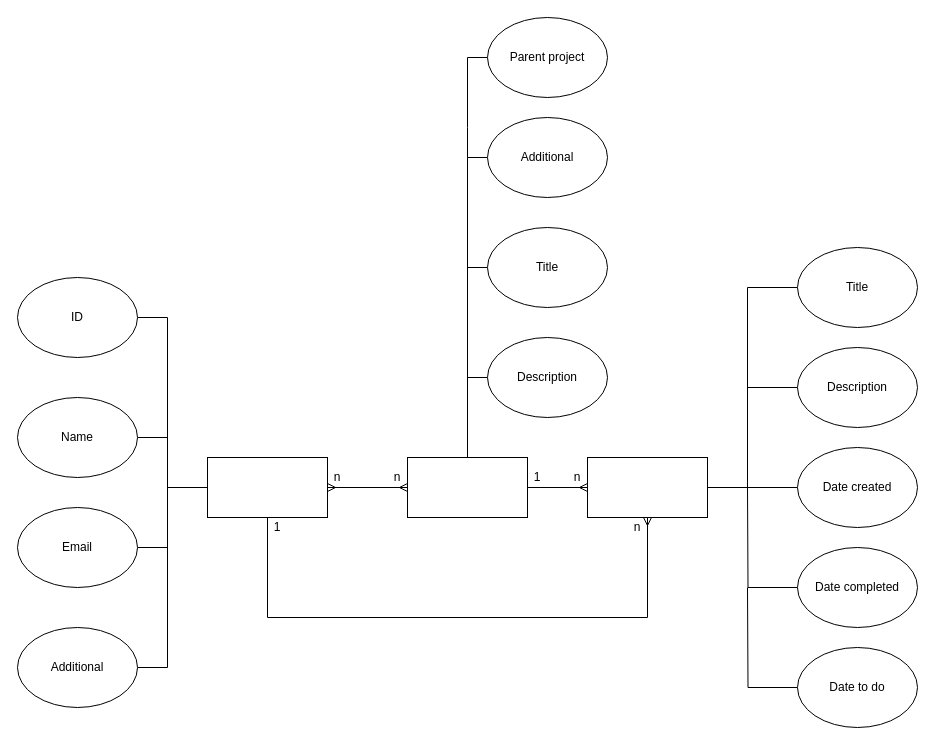
Image size: 935x745. Some labels were removed from this diagram. The box of each missing label's shape, as (x1, y1, x2, y2) in pixels:
Project: (406, 456, 528, 518)
Task: (586, 456, 708, 518)
User: (206, 456, 328, 518)
